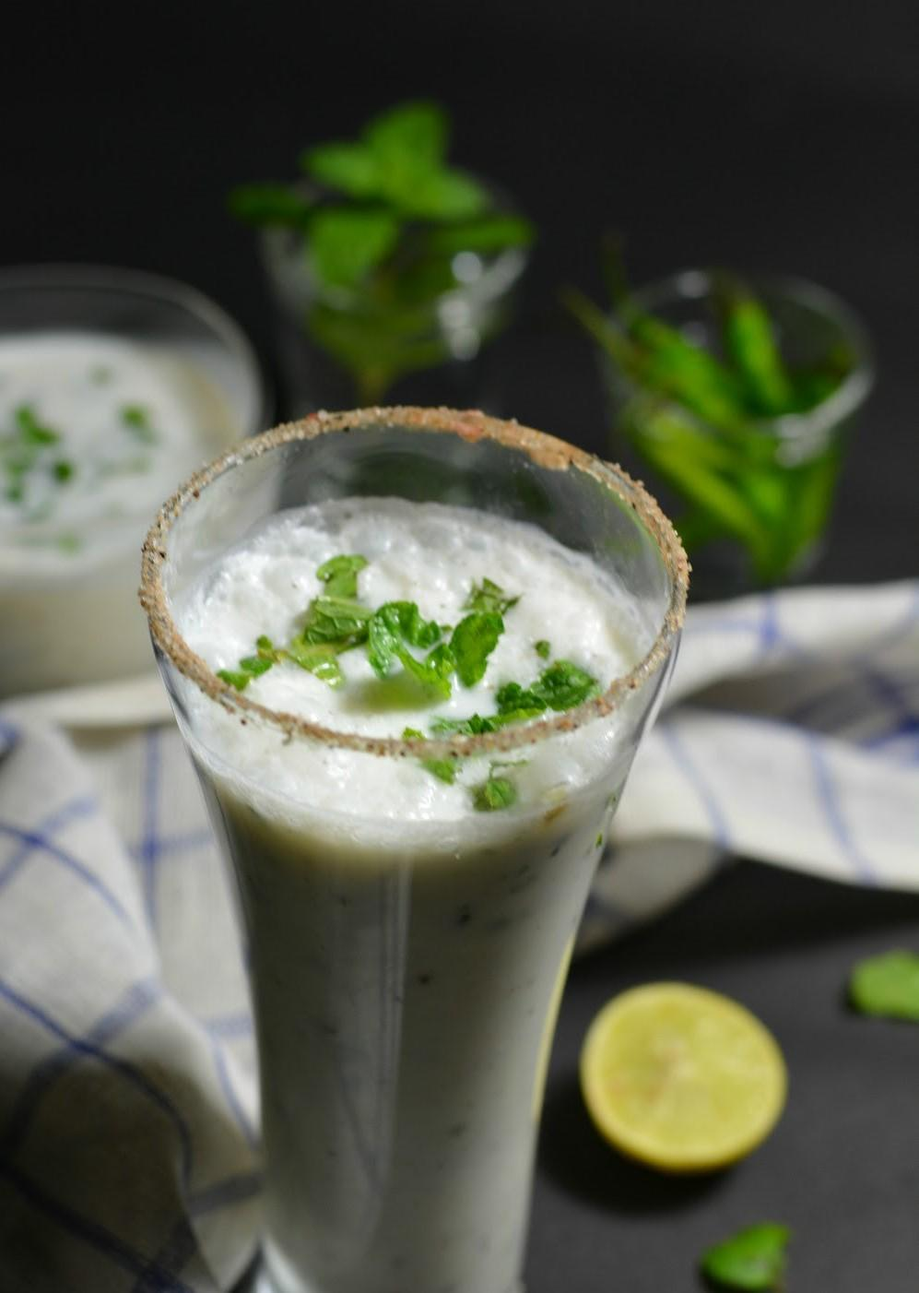Lassi: (175, 497, 651, 1293), (0, 328, 238, 693)
